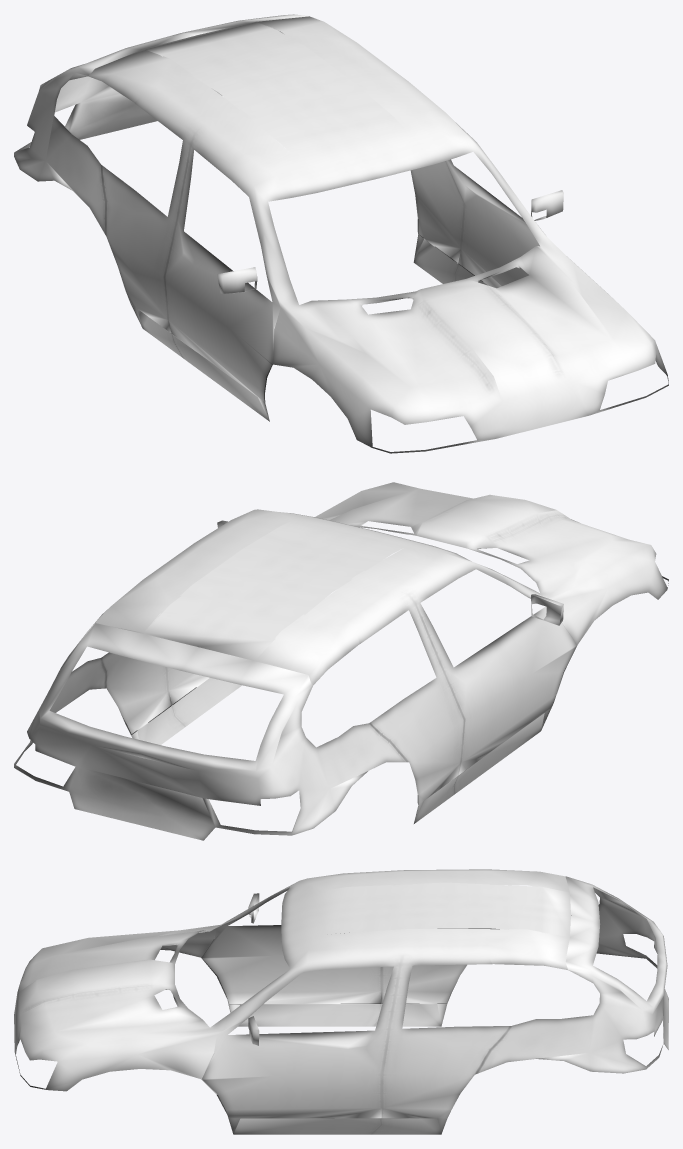
The model's file is LK4_body_d2.obj.
The picture shows the model from 3 angles, top to bottom: view 1: azimuth 30°, elevation 25°; view 2: azimuth 150°, elevation 25°; view 3: azimuth 270°, elevation 25°; orthographic projection. The views are drawn at different scales.
Visible parts, largest first — view 1: LK4_body; view 2: LK4_body; view 3: LK4_body.
Part boxes in pixels (<box>): LK4_body: <box>14,14,668,453</box>; LK4_body: <box>14,482,668,840</box>; LK4_body: <box>14,869,668,1134</box>.
Size of the model in its own units: 2.06 by 1.23 by 4.15.
1 material, 1 textured.
